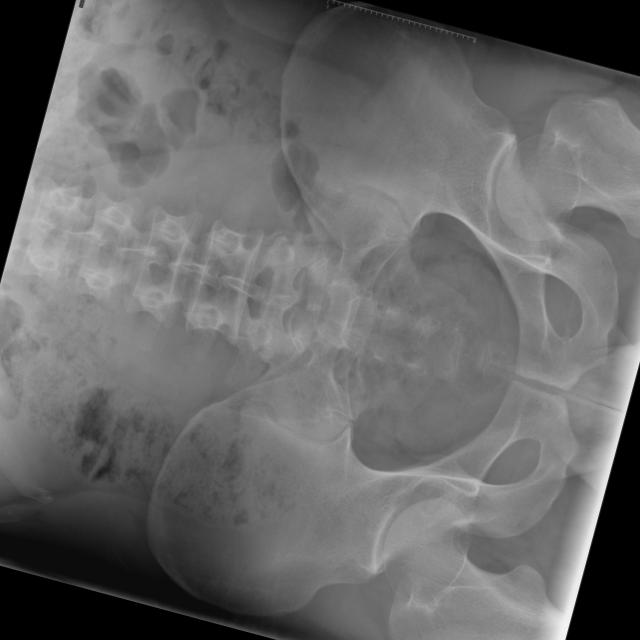normal-left: (496, 91, 640, 239)
normal-right: (382, 497, 571, 640)
